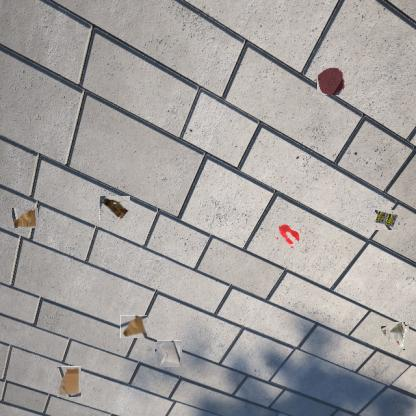dirty: (101, 194, 129, 223), (57, 366, 81, 397), (156, 341, 181, 367), (120, 315, 147, 338), (384, 324, 408, 348), (12, 208, 38, 228), (376, 210, 400, 230)
liquid: (316, 68, 344, 94), (277, 223, 301, 247)
